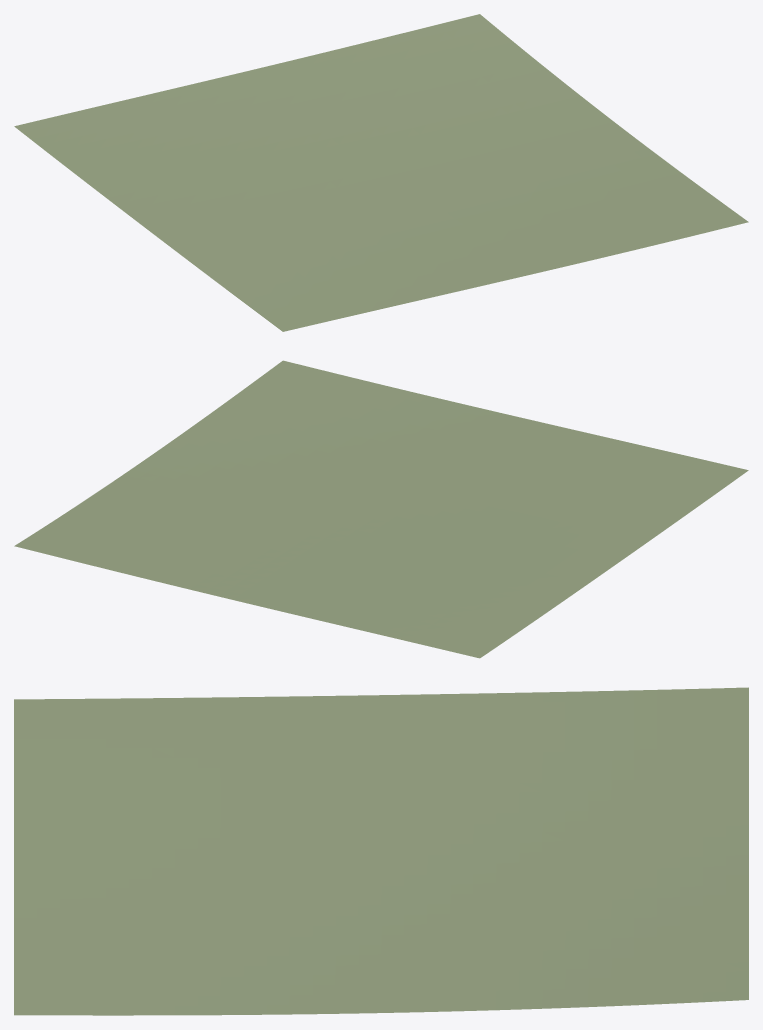
File: desert-21-24.glb
3 views of the same model, one above another, from view 1: azimuth 30°, elevation 25°; view 2: azimuth 150°, elevation 25°; view 3: azimuth 270°, elevation 25° (orthographic). The views are drawn at different scales.
Visible parts, largest first — view 1: desert-21-24; view 2: desert-21-24; view 3: desert-21-24.
Boxes of the visible parts, x1,y1,x2,y2 form: desert-21-24: (14,14,748,331); desert-21-24: (14,360,748,658); desert-21-24: (14,687,748,1015).
Size of the model in its own units: 512 by 13.49 by 512.
